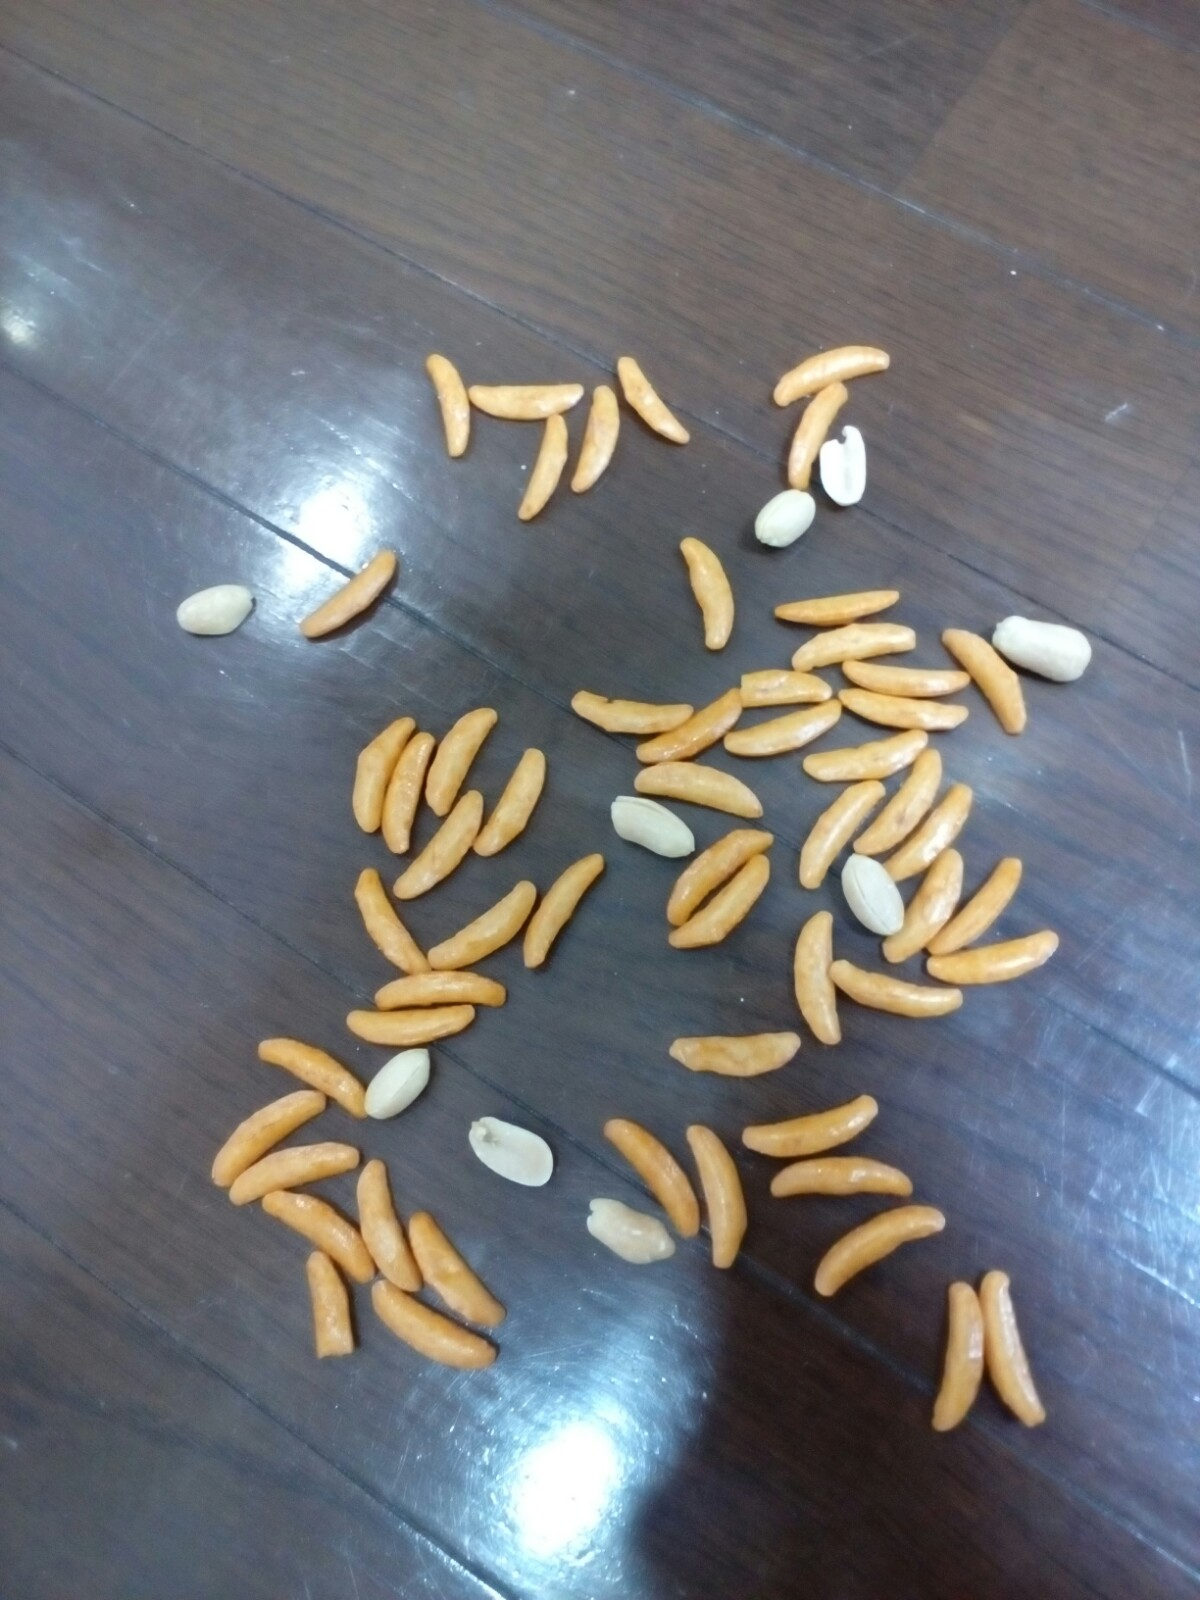peanut: (986, 609, 1103, 690), (575, 1191, 684, 1276), (166, 580, 268, 659), (466, 1110, 558, 1197), (611, 782, 703, 867), (837, 848, 914, 942), (358, 1041, 439, 1128), (811, 421, 882, 510), (741, 480, 818, 559)
